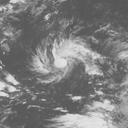cyclone: (28, 38, 82, 85)
